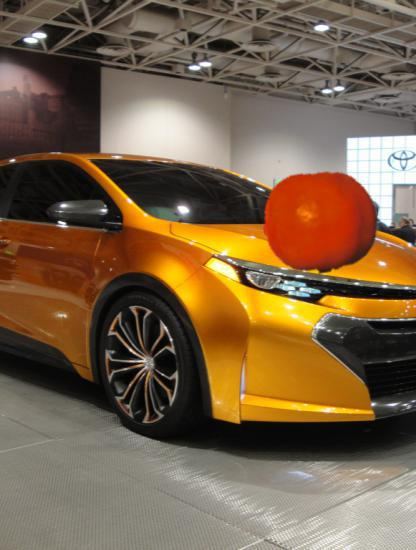Clementine: (263, 165, 378, 280)
